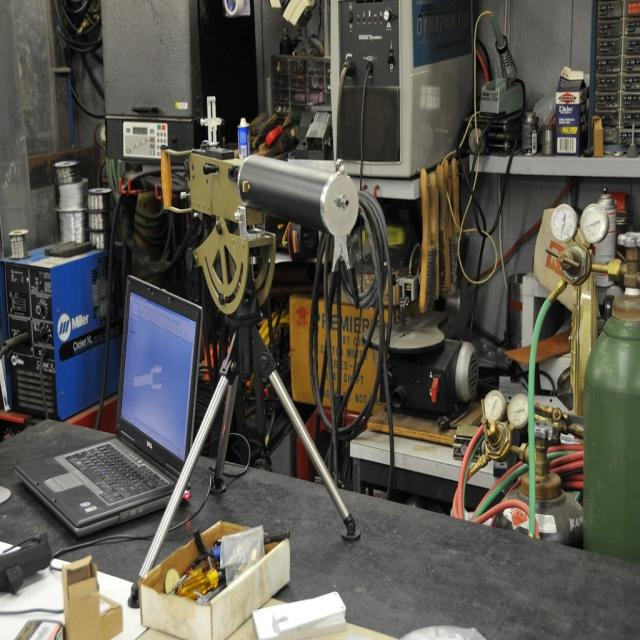E-waste: (12, 14, 638, 627)
